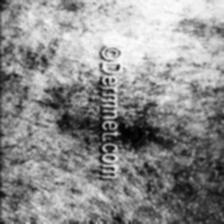Potentially Malignant Skin Tumors: (118, 123, 144, 145)
